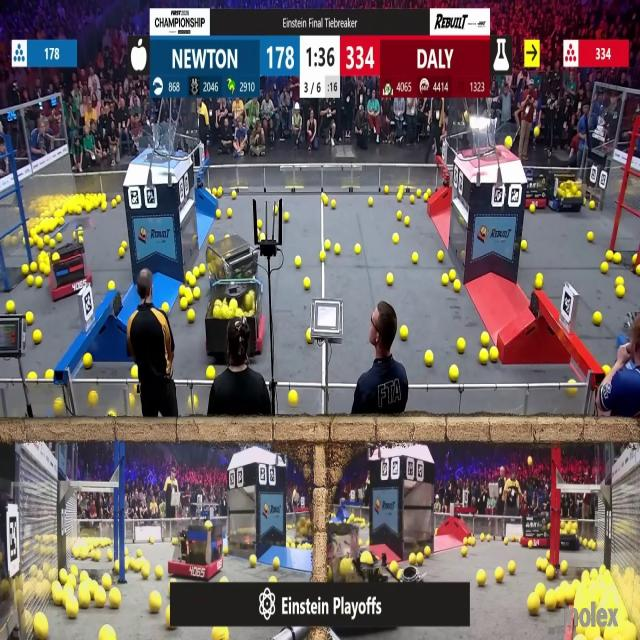ball_airborne: (504, 137, 512, 149), (534, 128, 540, 138), (528, 457, 532, 466)
ball_ground: (528, 594, 540, 614), (149, 593, 160, 613), (109, 590, 120, 610), (67, 600, 78, 618), (100, 626, 114, 640), (78, 592, 90, 608), (95, 591, 106, 608), (544, 596, 555, 612), (424, 350, 434, 366), (55, 398, 65, 414), (450, 364, 459, 380), (288, 390, 297, 406), (481, 349, 490, 364), (478, 570, 487, 585), (495, 568, 504, 582), (103, 574, 112, 588), (90, 392, 99, 406), (83, 353, 91, 368), (141, 566, 150, 579), (482, 334, 490, 348), (534, 275, 542, 289), (594, 312, 602, 326), (458, 339, 466, 353), (399, 325, 407, 339), (34, 329, 42, 342), (207, 365, 215, 378), (545, 566, 553, 579), (560, 561, 568, 574), (536, 585, 544, 598), (39, 266, 49, 276), (491, 348, 498, 362), (386, 274, 394, 286), (132, 365, 140, 377), (390, 562, 398, 574), (187, 310, 194, 323), (507, 561, 514, 574), (61, 569, 68, 582), (6, 302, 14, 313), (618, 286, 626, 297), (536, 559, 544, 570), (27, 312, 34, 324), (155, 566, 162, 578), (180, 299, 187, 311), (417, 554, 424, 566), (45, 368, 53, 378), (80, 571, 88, 581), (36, 239, 44, 249), (133, 560, 141, 570), (70, 566, 78, 576), (250, 556, 257, 567), (35, 276, 42, 287), (454, 281, 461, 292), (28, 276, 35, 287), (335, 244, 342, 255), (615, 252, 622, 263), (443, 275, 450, 286), (424, 545, 431, 556), (274, 558, 280, 570), (30, 265, 38, 274), (588, 233, 595, 243), (192, 288, 199, 298), (521, 241, 528, 251), (108, 280, 115, 290), (450, 271, 457, 281), (307, 328, 312, 342), (568, 380, 575, 390), (305, 278, 311, 289), (413, 252, 419, 263), (294, 256, 300, 267), (392, 234, 398, 245), (410, 554, 416, 565), (108, 551, 114, 562), (603, 363, 610, 372), (602, 264, 608, 274), (355, 244, 361, 254), (180, 286, 186, 296), (226, 208, 232, 218), (403, 215, 409, 225), (23, 266, 29, 276), (324, 240, 330, 250), (439, 251, 445, 261), (184, 273, 190, 283), (462, 545, 468, 555), (114, 560, 120, 570), (323, 197, 329, 207), (123, 562, 129, 572), (222, 544, 228, 554), (270, 575, 278, 582), (220, 575, 228, 582), (468, 537, 475, 545), (118, 248, 124, 257), (618, 277, 624, 286), (258, 233, 264, 242), (396, 211, 402, 220), (606, 251, 612, 260), (30, 370, 36, 379), (100, 202, 106, 211), (216, 187, 222, 196), (192, 268, 198, 277), (367, 198, 372, 208), (320, 251, 325, 261), (201, 266, 206, 276), (164, 304, 170, 312), (590, 202, 596, 210), (396, 192, 402, 200), (57, 235, 63, 243), (123, 549, 129, 557), (75, 206, 81, 214), (43, 237, 49, 245), (358, 538, 364, 546), (284, 212, 289, 221), (632, 254, 637, 263), (209, 236, 214, 245), (463, 536, 468, 545), (172, 537, 178, 544), (330, 201, 335, 209), (216, 210, 221, 218), (530, 205, 535, 213), (121, 241, 126, 249), (137, 550, 142, 558), (503, 537, 508, 545), (256, 220, 261, 228), (488, 537, 493, 545), (528, 540, 533, 548), (636, 267, 640, 276), (150, 538, 154, 547), (78, 227, 84, 233), (411, 195, 416, 202), (384, 186, 389, 193), (417, 189, 422, 196), (234, 190, 238, 198), (112, 200, 116, 208), (424, 193, 428, 201), (116, 194, 120, 202), (275, 207, 279, 215), (545, 552, 549, 560), (100, 194, 104, 202), (513, 534, 517, 541), (482, 534, 486, 540), (73, 233, 76, 240)
goal: (466, 122, 520, 160), (130, 130, 188, 160)
robot_blue: (207, 238, 259, 300), (546, 170, 584, 213), (559, 517, 580, 551)
robot_red: (206, 293, 264, 364), (172, 520, 224, 580), (50, 240, 87, 302), (522, 169, 550, 207), (520, 514, 551, 548)
